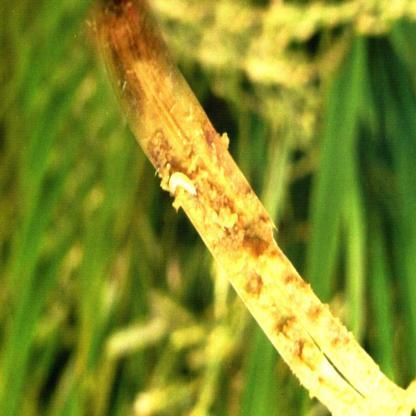whorl-maggot: (167, 166, 200, 208)
